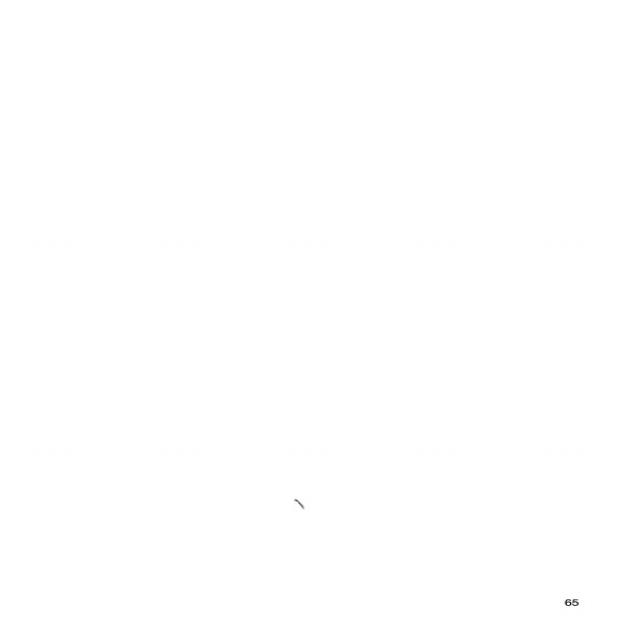1 -one-: (292, 497, 306, 511)
